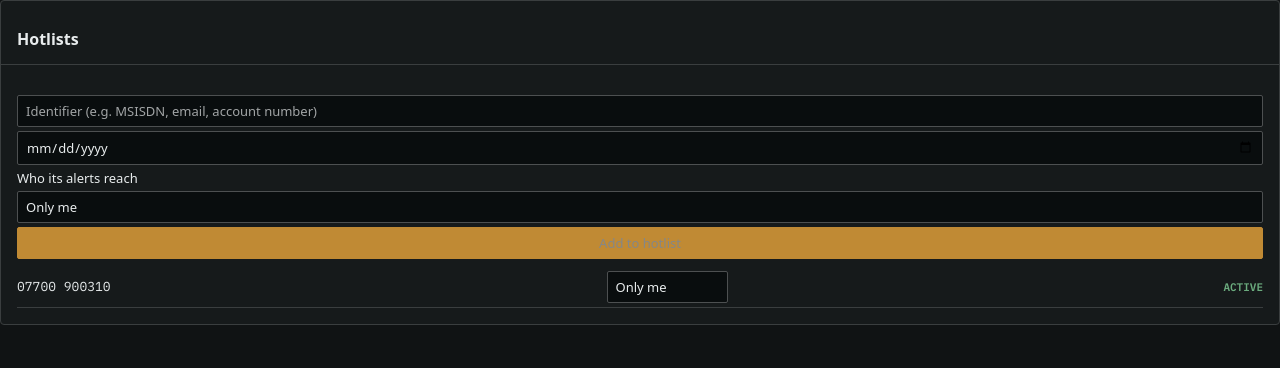
Test: a hotlist's audience › says the server's refusal in its own words
Step 1. Select "Me and my team" in the dropdown named "Who alerts from 07700 900310 reach" → (667, 286), box [606,270,728,302]
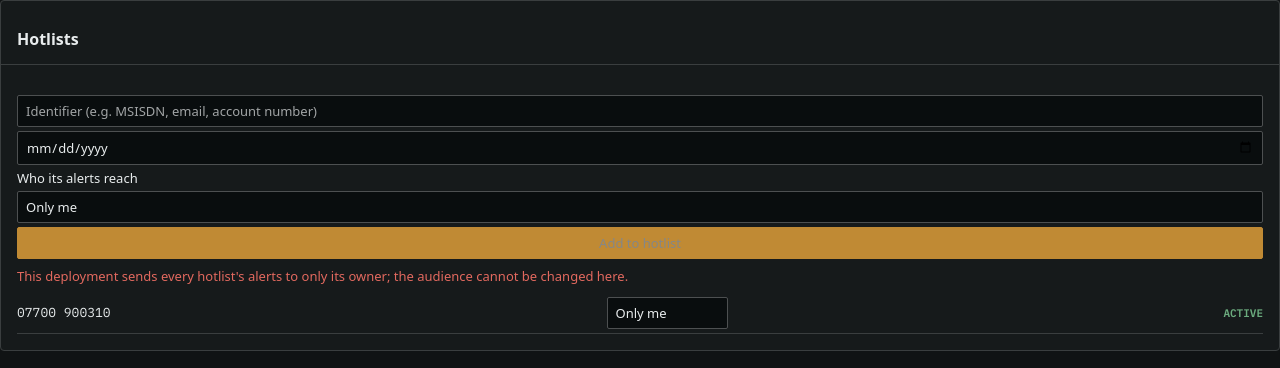
Expected: the text "the audience cannot be changed here" is shown, [17,266,628,284]
